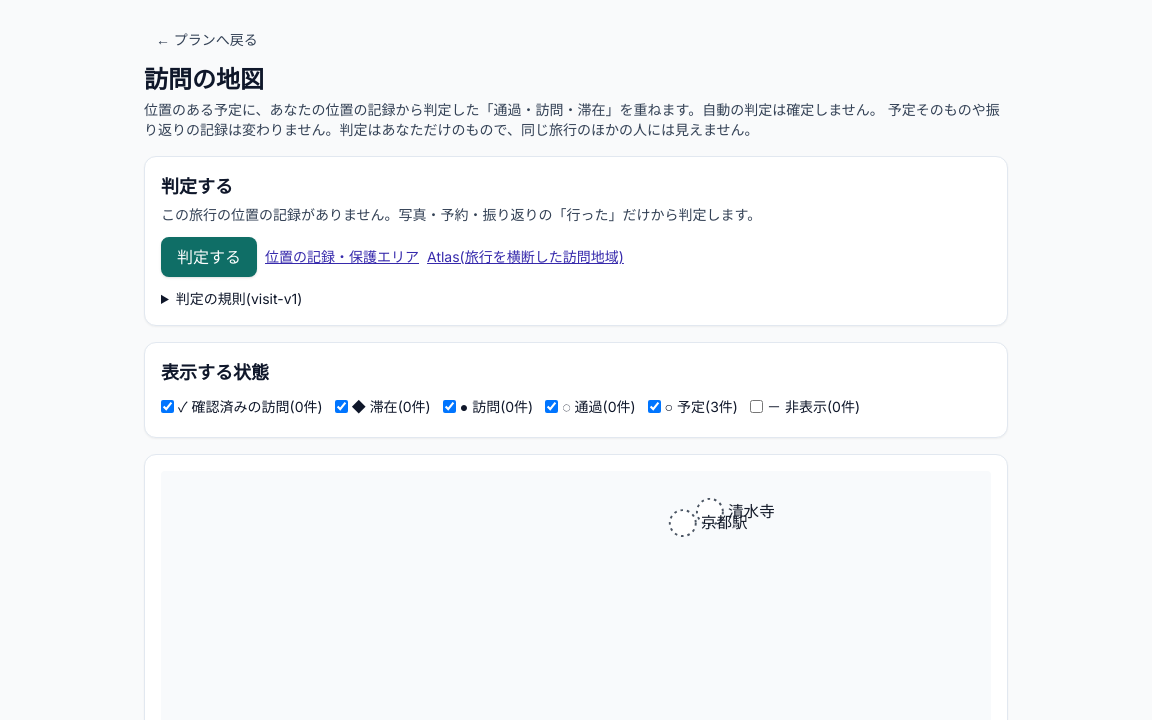
Test case: VisitsPage (Gate V2) › 判定する前: 位置のある予定を「予定」として一覧と略図に出し、判定するとサーバーで判定する
This screenshot has width=1152, height=720.
Check: the heading "訪問の地図" is shown, box [144,65,264,94]
Click the button "判定する" at (209, 257), box [161,237,257,277]
(page scrolled)
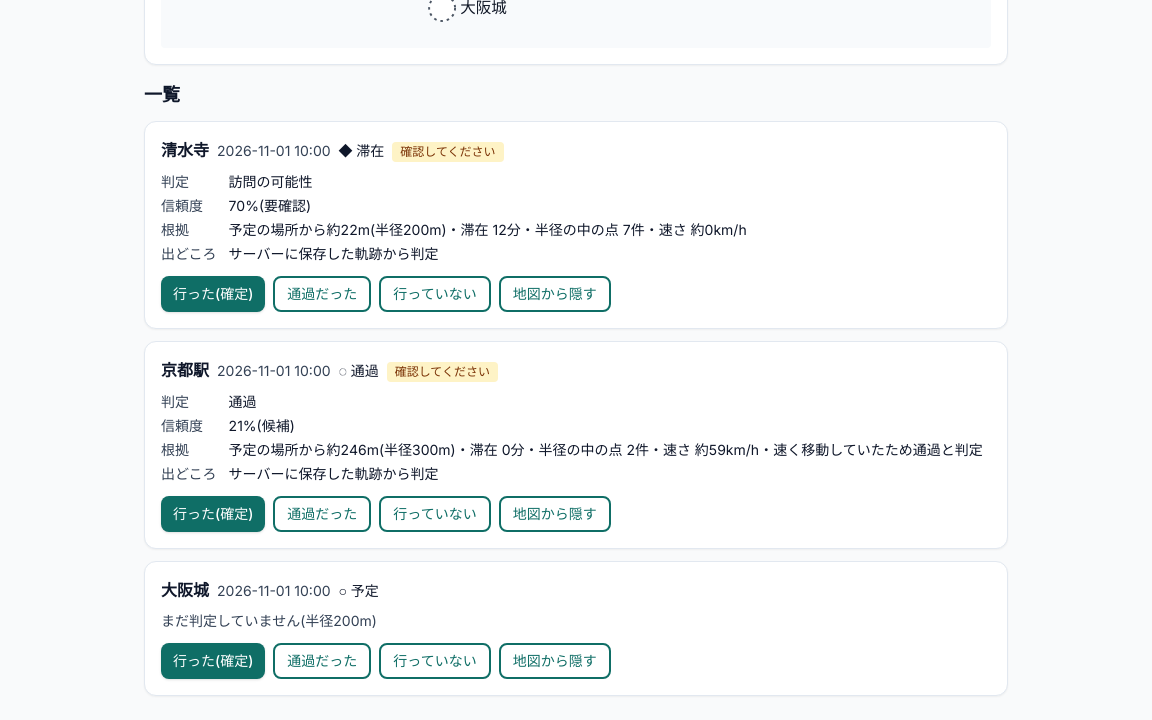
Check: the element with test id "layer-state" shows "滞在", box [356,142,384,160]
Check: the 1st text "確認してください" is shown, box [392,142,504,162]
Check: the text "70%(要確認)" is shown, box [229,197,311,214]
